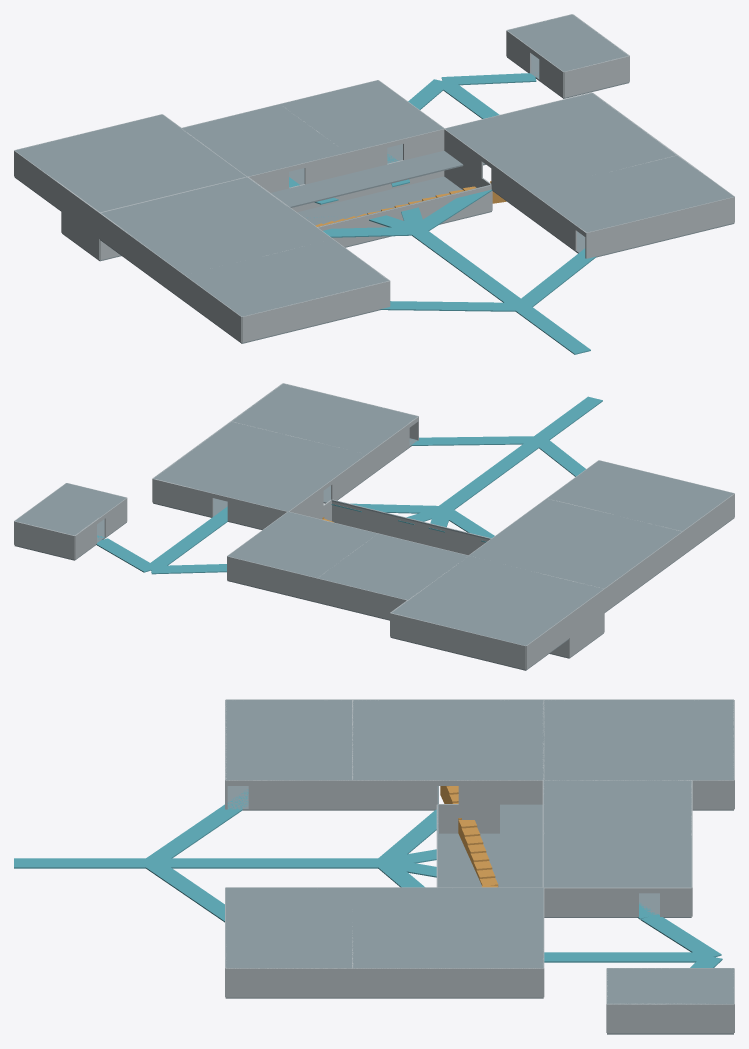
Rendered from furnished.glb.
The picture shows the model from 3 angles, top to bottom: view 1: azimuth 30°, elevation 25°; view 2: azimuth 150°, elevation 25°; view 3: azimuth 270°, elevation 25°; orthographic projection. The views are drawn at different scales.
Visible parts, largest first — view 1: Ceiling cap dorm, Ceiling cap lab, Ceiling cap generator, Ceiling cap store, Ceiling cap mess, Ceiling cap records, Ceiling cap radio, Wall mess S, Wall store S, Ceiling cap shelter, Floor tunnel, Wall tunnel S (+27 smaller); view 2: Ceiling cap lab, Ceiling cap dorm, Ceiling cap generator, Ceiling cap store, Ceiling cap mess, Ceiling cap records, Ceiling cap radio, Wall generator N, Wall tunnel S, Ceiling cap shelter, Wall records N, Wall lab W (+22 smaller); view 3: Ceiling cap dorm, Ceiling cap lab, Ceiling cap generator, Ceiling cap mess, Ceiling cap store, Ceiling cap records, Ceiling cap radio, Wall dorm E, Ceiling cap shelter, Wall shelter E, Wall mess E, Wall store E (+20 smaller).
Boxes of the visible parts, bbox=[...] form: Ceiling cap dorm: bbox=[445, 93, 676, 190]; Ceiling cap lab: bbox=[101, 177, 332, 275]; Ceiling cap generator: bbox=[15, 114, 246, 212]; Ceiling cap store: bbox=[185, 239, 388, 316]; Ceiling cap mess: bbox=[530, 155, 733, 232]; Ceiling cap records: bbox=[280, 80, 443, 152]; Ceiling cap radio: bbox=[182, 104, 345, 176]; Wall mess S: bbox=[586, 197, 734, 258]; Wall store S: bbox=[242, 281, 389, 342]; Ceiling cap shelter: bbox=[507, 14, 628, 71]; Floor tunnel: bbox=[297, 176, 491, 247]; Wall tunnel S: bbox=[317, 185, 492, 246]; Ceiling cap lab: bbox=[469, 498, 681, 588]; Ceiling cap dorm: bbox=[153, 421, 365, 511]; Ceiling cap generator: bbox=[391, 556, 603, 645]; Ceiling cap store: bbox=[547, 460, 733, 531]; Ceiling cap mess: bbox=[232, 383, 417, 454]; Ceiling cap records: bbox=[228, 511, 377, 577]; Ceiling cap radio: bbox=[318, 534, 468, 599]; Wall generator N: bbox=[390, 613, 525, 669]; Wall tunnel S: bbox=[332, 499, 491, 555]; Ceiling cap shelter: bbox=[15, 483, 126, 535]; Wall records N: bbox=[227, 556, 317, 601]; Wall lab W: bbox=[604, 531, 682, 612]; Ceiling cap dorm: bbox=[353, 887, 543, 968]; Ceiling cap lab: bbox=[353, 700, 543, 780]; Ceiling cap generator: bbox=[543, 700, 733, 780]; Ceiling cap mess: bbox=[225, 887, 352, 968]; Ceiling cap store: bbox=[225, 700, 352, 780]; Ceiling cap records: bbox=[543, 834, 691, 887]; Ceiling cap radio: bbox=[543, 780, 691, 833]; Wall dorm E: bbox=[353, 968, 543, 997]; Ceiling cap shelter: bbox=[607, 968, 733, 1004]; Wall shelter E: bbox=[607, 1003, 733, 1033]; Wall mess E: bbox=[225, 968, 352, 997]; Wall store E: bbox=[248, 780, 352, 809].
Size of the model in its own units: 68.16 by 5.66 by 68.08.
